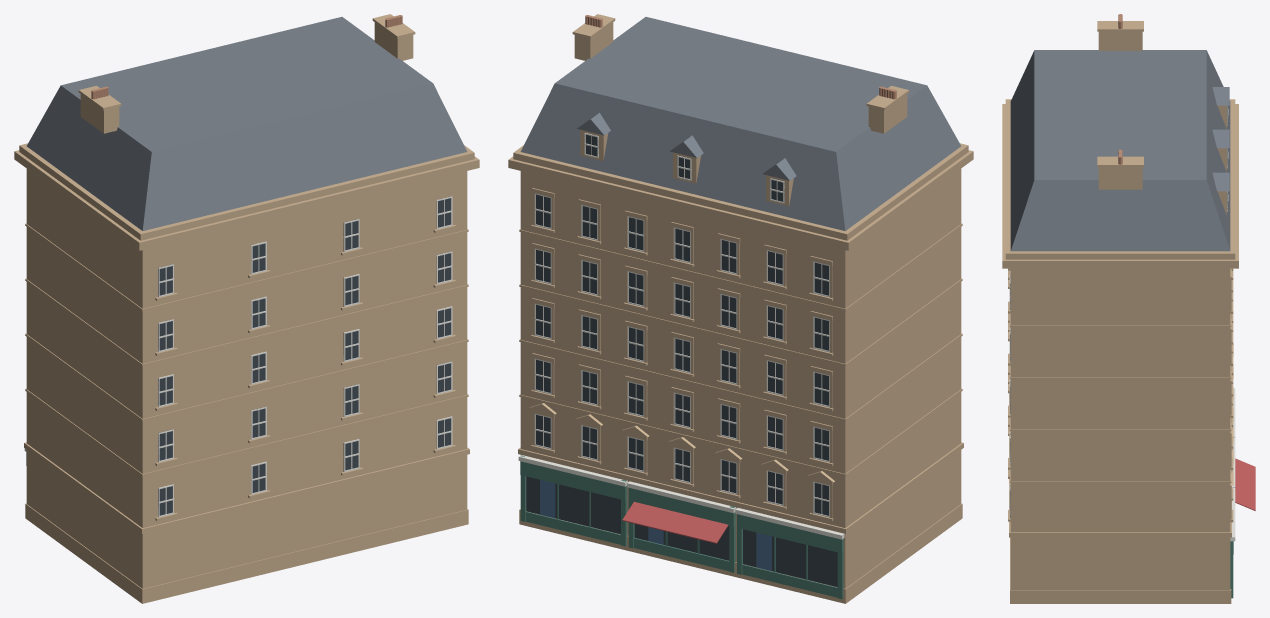
Rendered from classical6_shops.glb.
The picture shows the model from 3 angles, left to right: view 1: azimuth 30°, elevation 25°; view 2: azimuth 150°, elevation 25°; view 3: azimuth 270°, elevation 25°; orthographic projection. The views are drawn at different scales.
Parts seen in each view (by area): view 1: classical6_shops; view 2: classical6_shops; view 3: classical6_shops.
Part boxes in pixels (left/top/right/bottom): classical6_shops: left=14, top=14, right=479, bottom=603; classical6_shops: left=508, top=14, right=973, bottom=603; classical6_shops: left=1002, top=14, right=1255, bottom=603.
Bounding box in the file's own units: 22 × 28.92 × 15.
